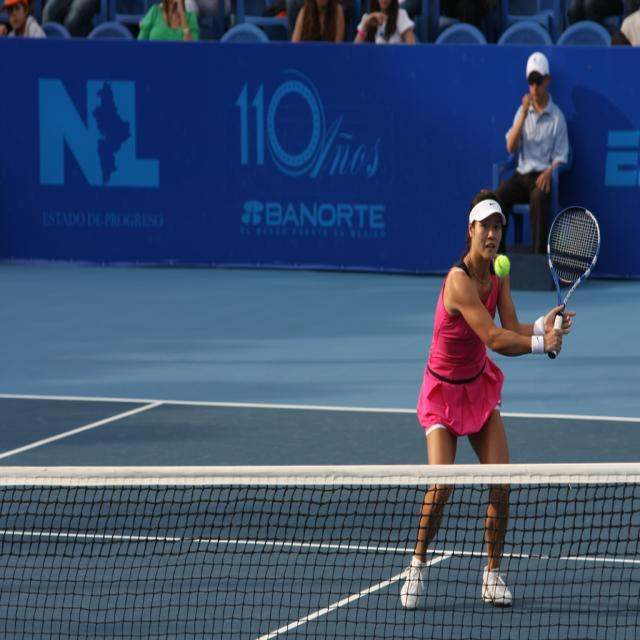Tennis ball: (494, 255, 510, 277)
